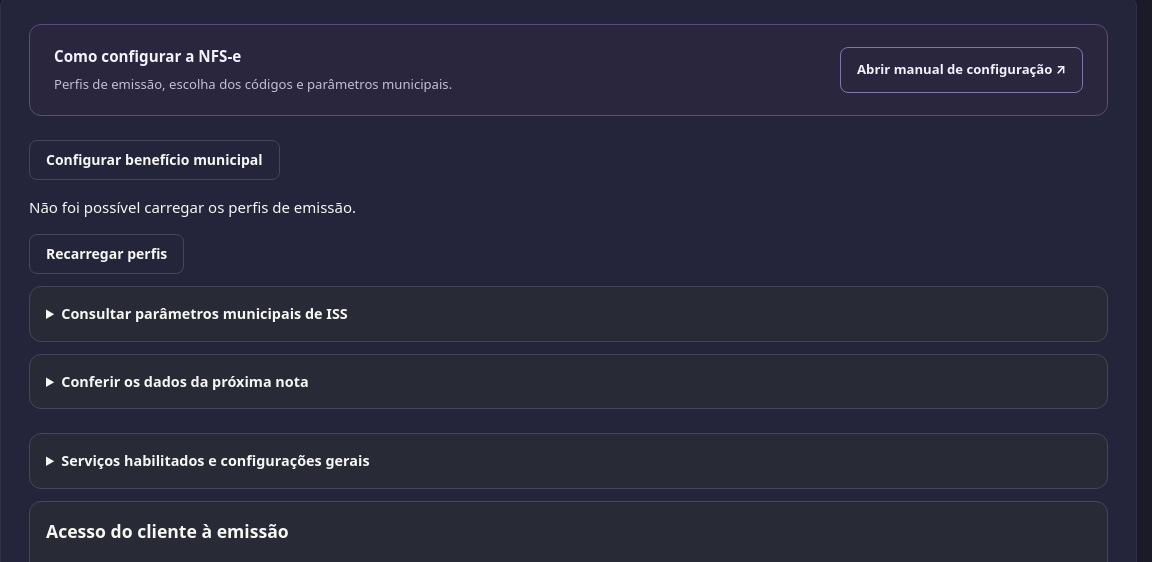
Scenario: o salvar da aba grava, e só grava o que é dela › os campos chegam na aba com o que está gravado
Click the heading "Serviços habilitados e configurações gerais" at (215, 461), box [61, 451, 370, 470]
(page scrolled)
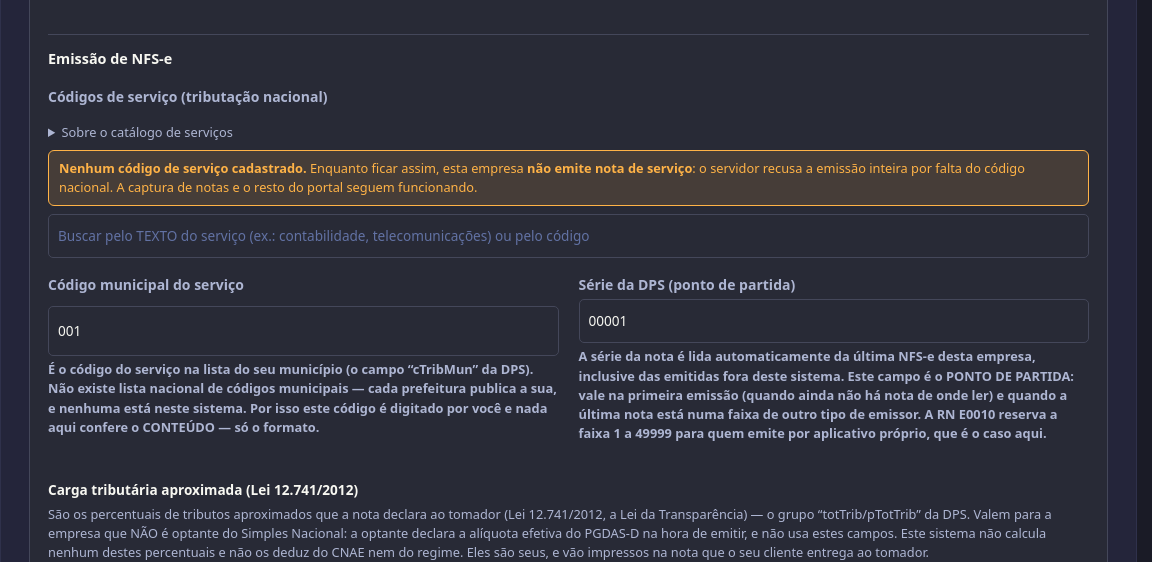
Expected: the field labelled "Série da DPS" holds "00001", [578, 299, 1089, 343]
Expected: the field labelled "Código municipal do serviço" holds "001", [48, 306, 558, 356]
